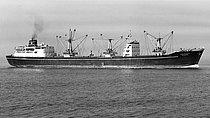Ship: (3, 26, 208, 74)
